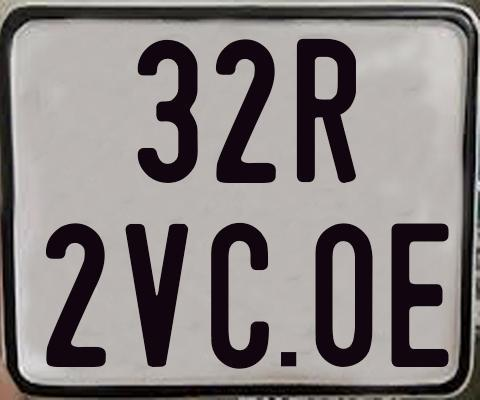0: (314, 221, 372, 365)
2: (216, 39, 278, 185), (43, 222, 103, 371)
3: (138, 40, 200, 188)
C: (211, 221, 275, 373)
E: (388, 221, 451, 366)
R: (294, 36, 354, 180)
V: (123, 223, 190, 371)
